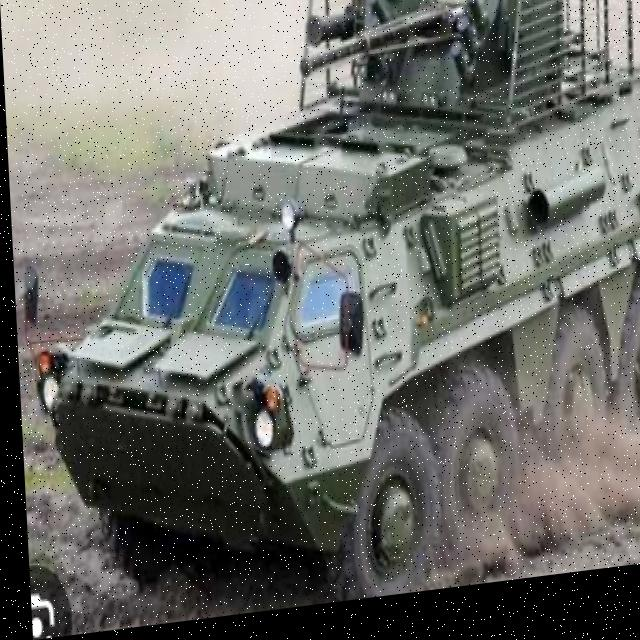MIL_APC: (8, 0, 640, 639)
